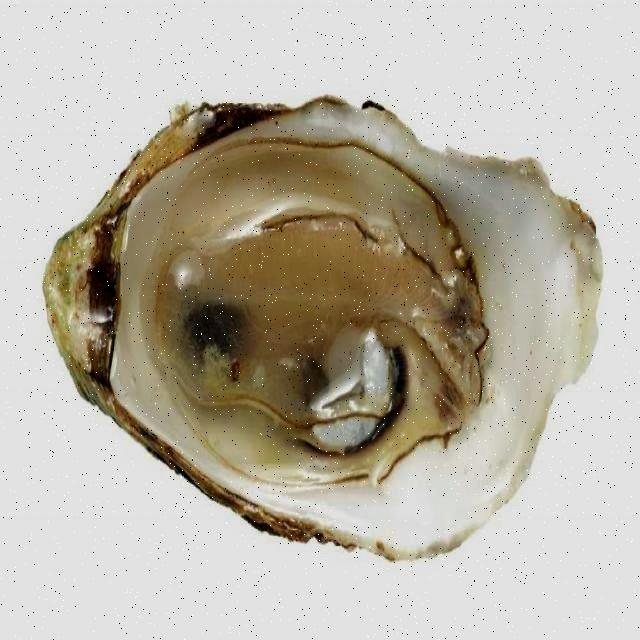Oyster-Open: (45, 96, 600, 556)
